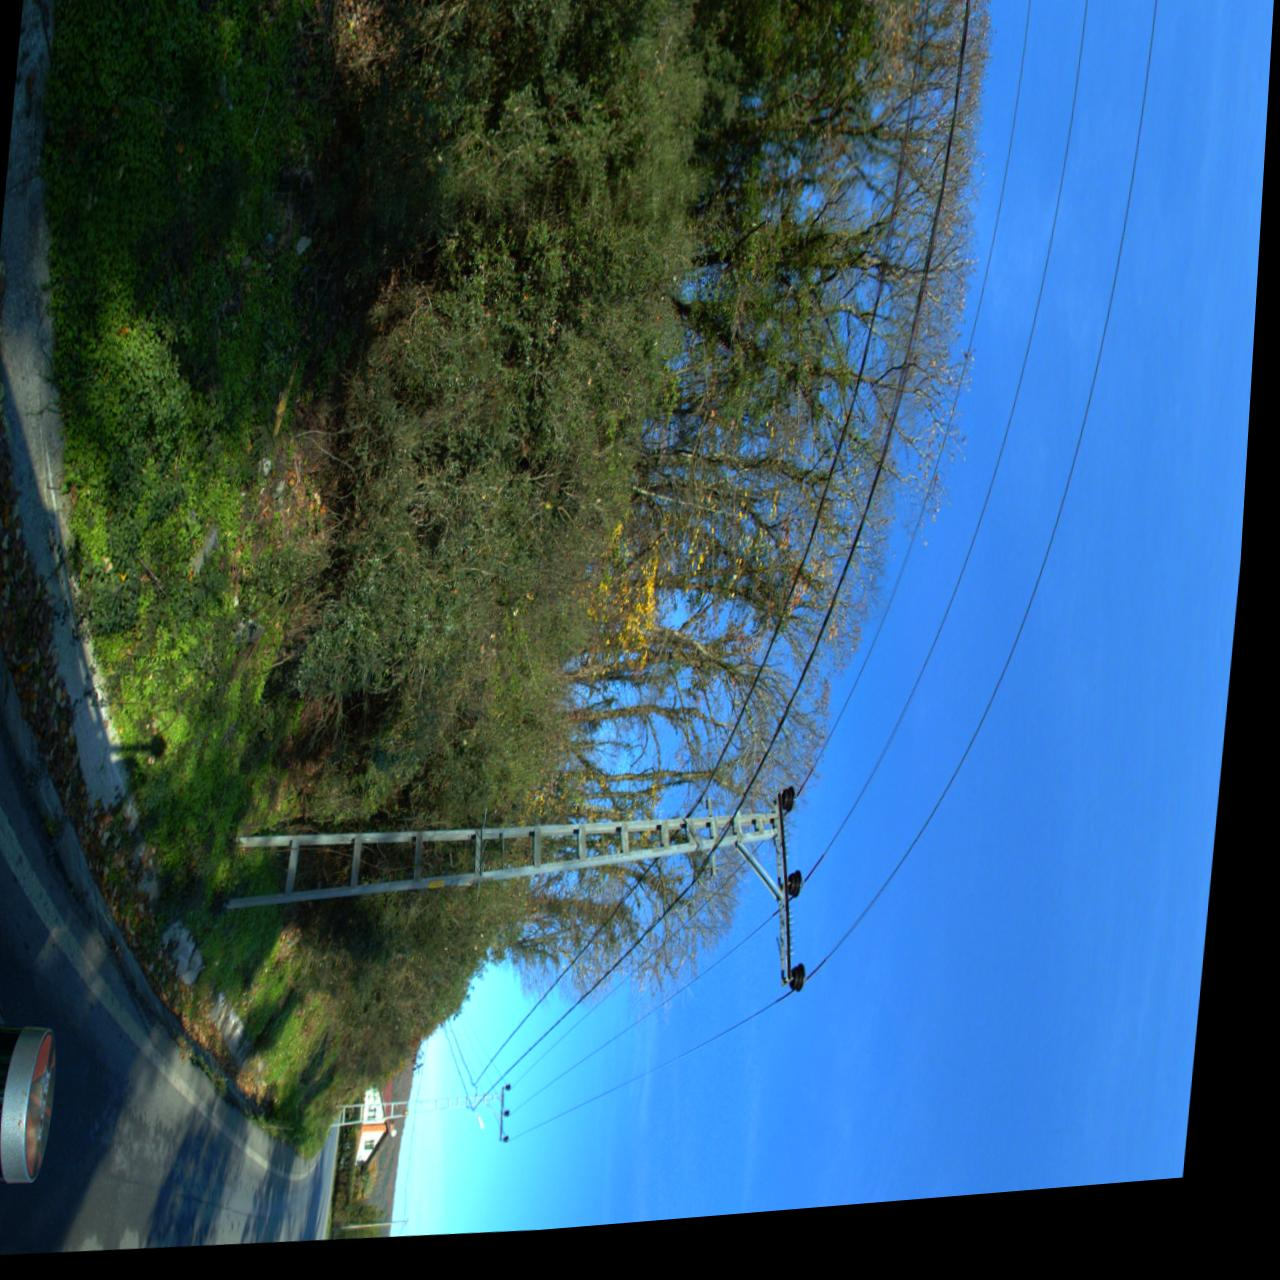Utility Pole Information Plate: (438, 887, 456, 897), (465, 886, 483, 896)
